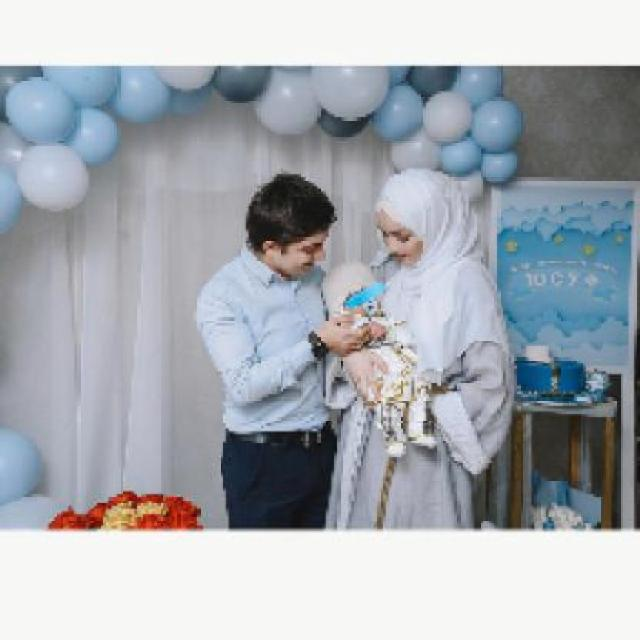child: (323, 262, 440, 458)
